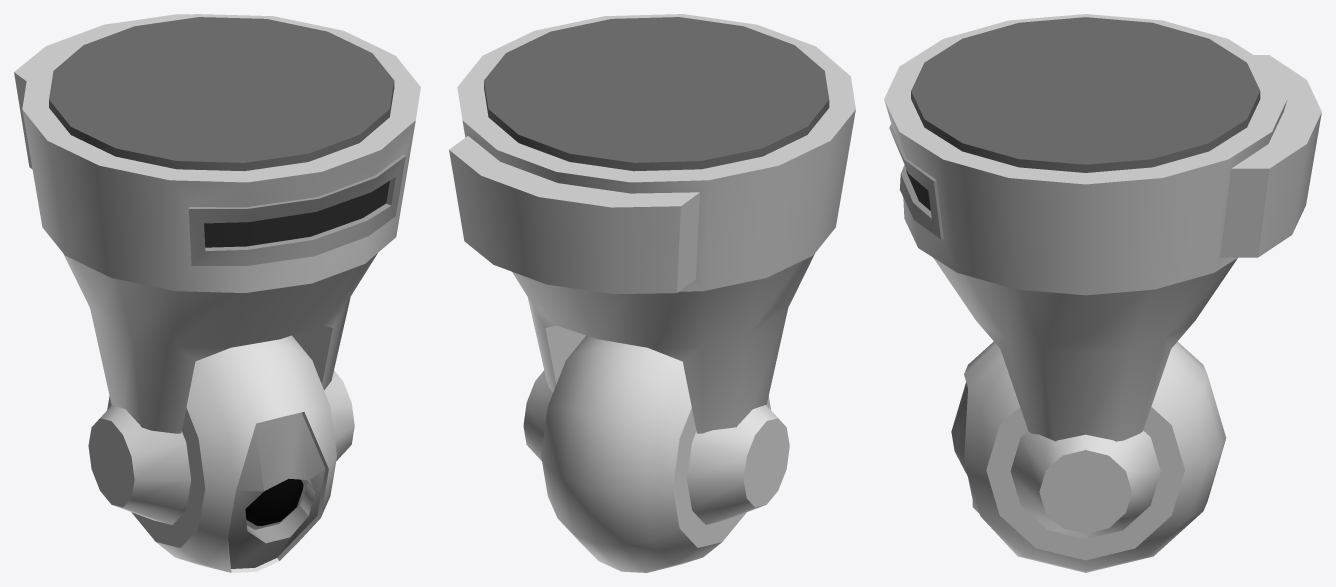
The picture shows the model from 3 angles, left to right: view 1: azimuth 30°, elevation 25°; view 2: azimuth 150°, elevation 25°; view 3: azimuth 270°, elevation 25°; orthographic projection.
Visible parts, largest first — view 1: Lo-Body_01; view 2: Lo-Body_01; view 3: Lo-Body_01.
Part boxes in pixels (x1,y1,x2,y2): Lo-Body_01: [14, 14, 420, 572]; Lo-Body_01: [449, 14, 855, 572]; Lo-Body_01: [884, 14, 1321, 572].
Bounding box in the file's own units: 0.1547 × 0.2008 × 0.1679.
Materials: 1 (1 with a texture image).
